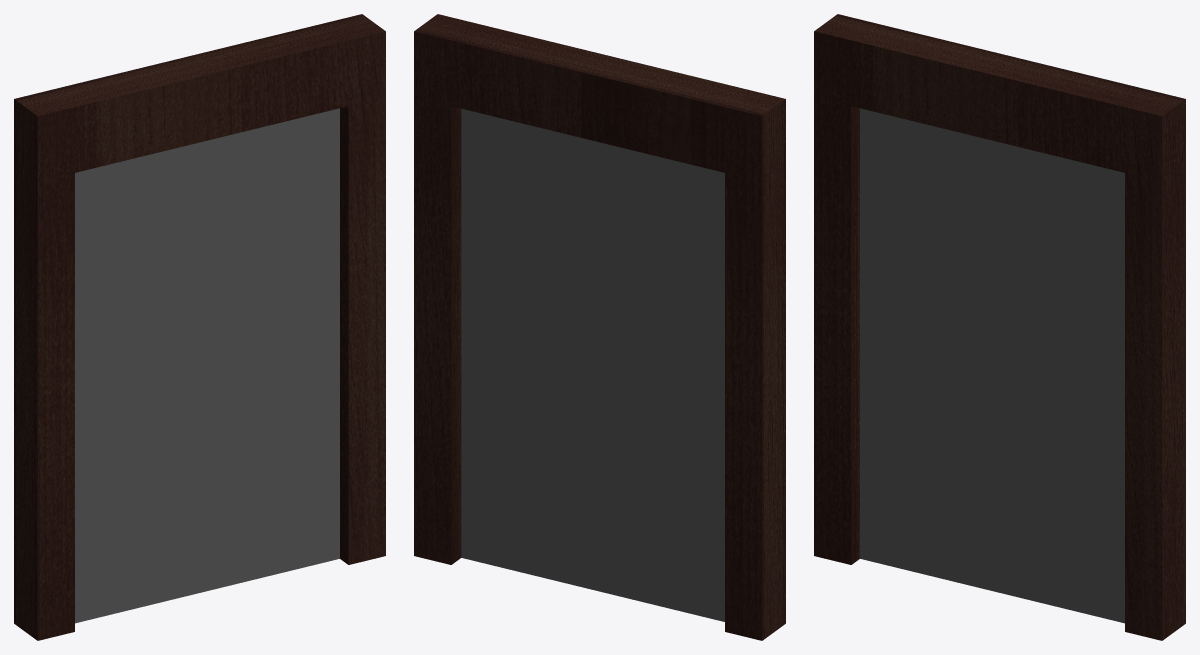
The model's file is portal.fbx.
The picture shows the model from 3 angles, left to right: view 1: azimuth 30°, elevation 25°; view 2: azimuth 150°, elevation 25°; view 3: azimuth 330°, elevation 25°; orthographic projection.
Parts seen in each view (by area): view 1: Cube.012, Cube.013; view 2: Cube.012, Cube.013; view 3: Cube.012, Cube.013.
Part boxes in pixels (bbox=[...]): Cube.012: bbox=[75, 108, 339, 623]; Cube.013: bbox=[14, 14, 385, 640]; Cube.012: bbox=[461, 108, 724, 621]; Cube.013: bbox=[414, 14, 785, 640]; Cube.012: bbox=[860, 108, 1124, 623]; Cube.013: bbox=[814, 14, 1185, 640].
Bounding box in the file's own units: 244 × 351 × 28.66.
Materials: 2 (1 with a texture image).
